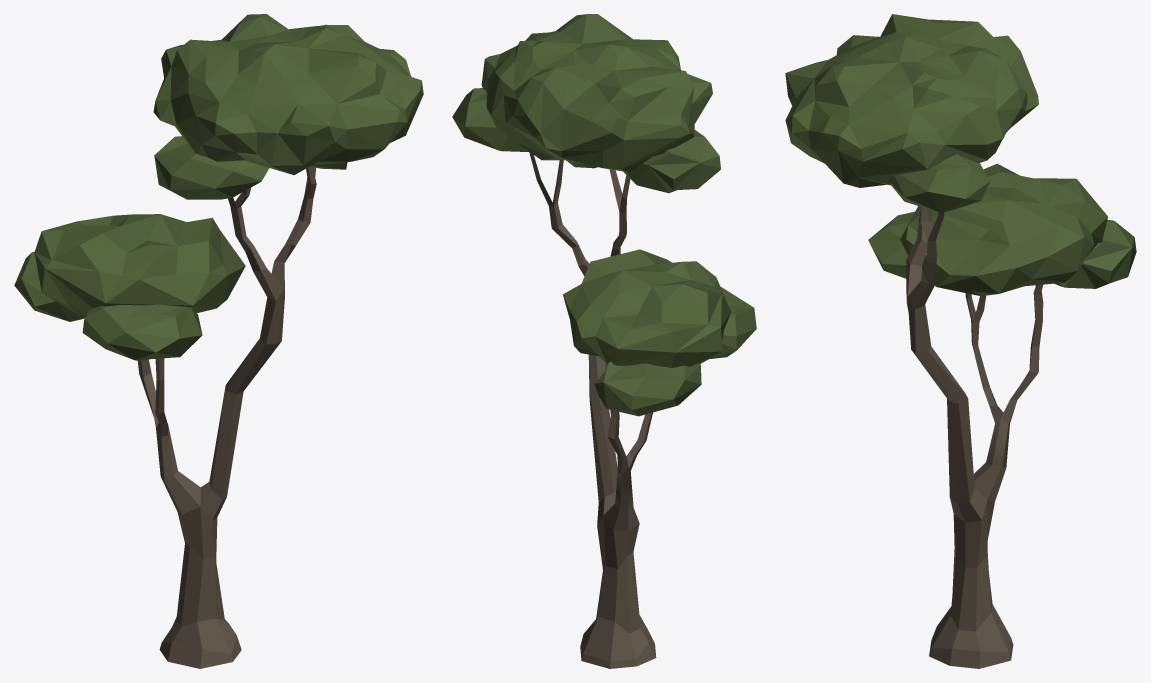
Rendered from Tree_4.gltf.
The picture shows the model from 3 angles, left to right: view 1: azimuth 30°, elevation 25°; view 2: azimuth 150°, elevation 25°; view 3: azimuth 270°, elevation 25°; orthographic projection. The views are drawn at different scales.
Parts seen in each view (by area): view 1: Tree_04; view 2: Tree_04; view 3: Tree_04.
Boxes of the visible parts, <box> form: Tree_04: <box>14,14,423,668</box>; Tree_04: <box>452,14,756,668</box>; Tree_04: <box>785,14,1136,668</box>.
Size of the model in its own units: 0.8321 by 1.54 by 0.7712.
1 material, 1 textured.
